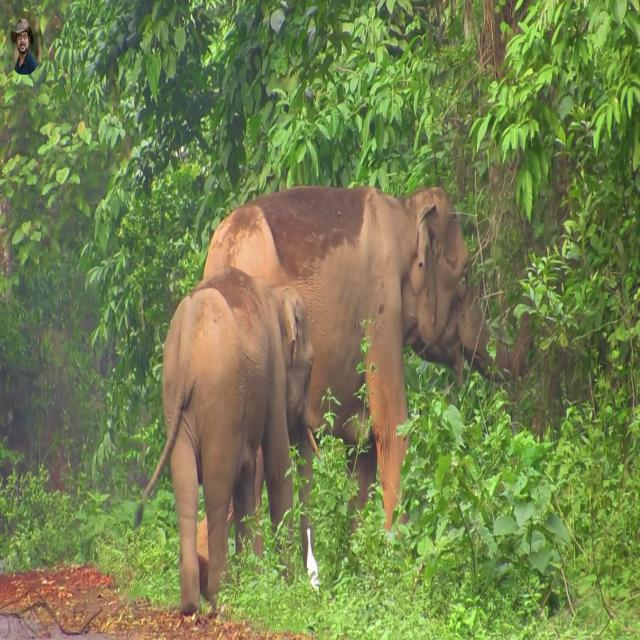Elephant: (202, 176, 526, 524), (133, 264, 320, 616)
